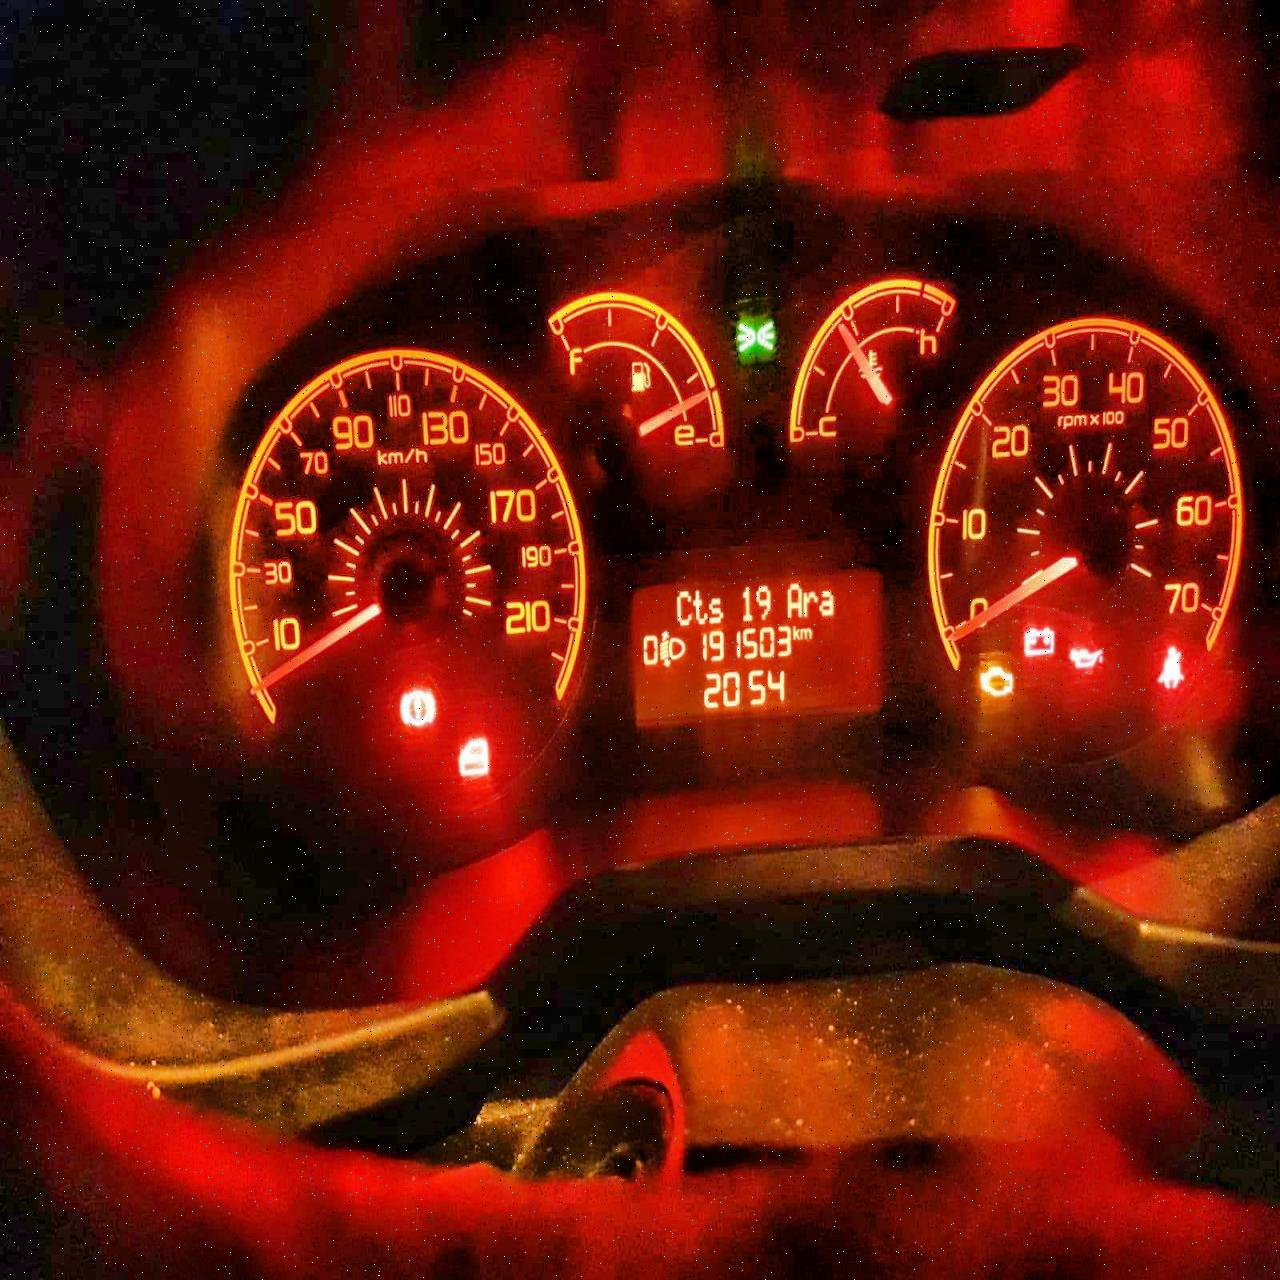0: (720, 669, 742, 707), (757, 625, 775, 659), (640, 633, 658, 666)
1: (741, 583, 754, 622), (735, 628, 741, 661), (701, 633, 707, 662)
2: (702, 669, 720, 707)
3: (777, 622, 790, 658)
4: (767, 668, 785, 702)
5: (747, 668, 765, 707), (742, 625, 756, 659)
9: (755, 581, 770, 620), (709, 628, 726, 661)
X: (674, 585, 692, 628), (785, 581, 803, 619), (690, 590, 707, 627), (818, 588, 836, 620), (708, 593, 724, 625), (803, 590, 817, 618), (798, 626, 812, 642), (792, 622, 799, 641)
odometer: (624, 573, 888, 727)
